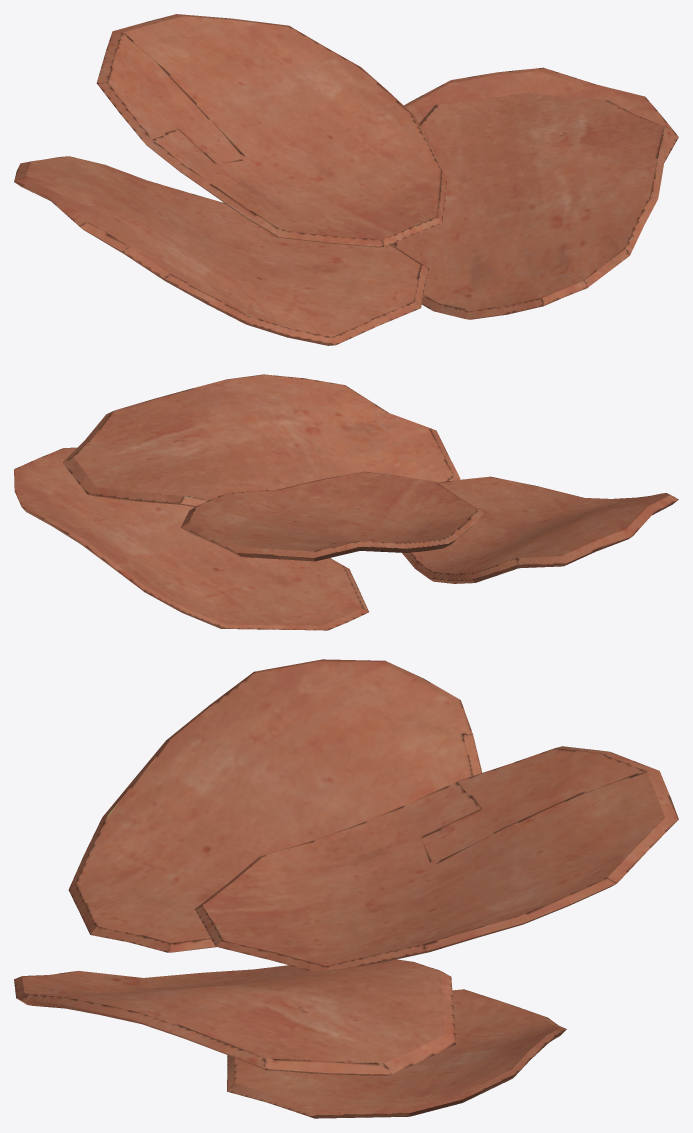
File: kerupuk.fbx
The picture shows the model from 3 angles, top to bottom: view 1: azimuth 30°, elevation 25°; view 2: azimuth 150°, elevation 25°; view 3: azimuth 270°, elevation 25°; orthographic projection. The views are drawn at different scales.
Visible parts, largest first — view 1: Ase.001_Baked.005; view 2: Ase.001_Baked.005; view 3: Ase.001_Baked.005.
Boxes of the visible parts, bbox=[...] form: Ase.001_Baked.005: bbox=[14, 14, 678, 345]; Ase.001_Baked.005: bbox=[14, 374, 678, 630]; Ase.001_Baked.005: bbox=[14, 659, 678, 1118].
Size of the model in its own units: 131 by 33.14 by 102.
